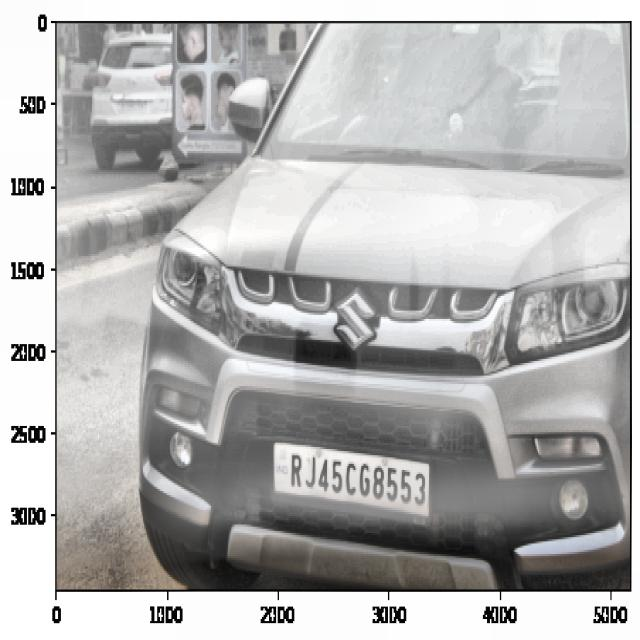license_plate: (285, 447, 430, 517)
